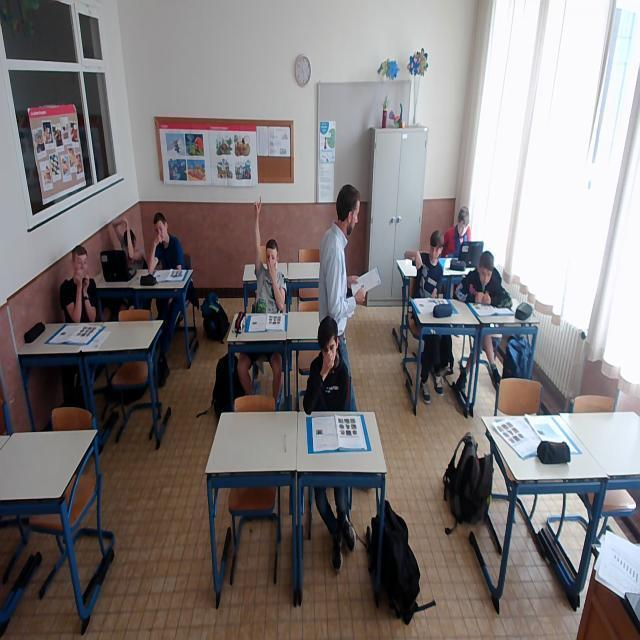Looking away: (457, 208, 471, 236)
Looking forward: (318, 318, 340, 368), (72, 246, 88, 279), (430, 231, 444, 261), (153, 214, 168, 240)
Raising hand: (244, 199, 286, 314), (118, 219, 142, 267)
Reading-writing: (455, 252, 525, 325)
